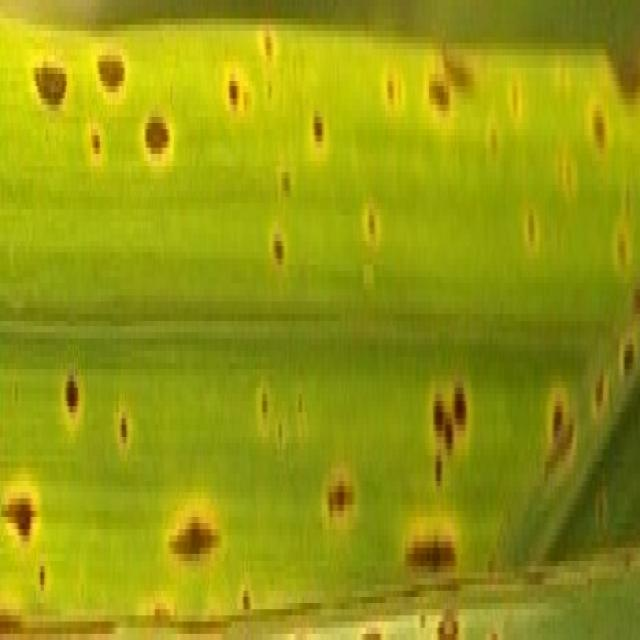Unhealthy: (488, 548, 640, 591), (593, 295, 640, 412), (148, 597, 256, 634), (430, 388, 466, 498), (485, 80, 524, 166), (428, 49, 474, 117), (254, 375, 307, 431), (0, 609, 110, 634), (174, 511, 218, 560), (610, 37, 640, 98), (413, 535, 460, 572), (34, 62, 66, 105), (589, 105, 614, 160), (141, 117, 171, 160), (5, 498, 33, 542), (548, 400, 573, 449), (326, 474, 354, 517), (222, 74, 249, 117), (615, 222, 636, 277), (59, 369, 82, 418), (97, 55, 126, 92), (362, 197, 380, 246), (384, 68, 403, 111), (270, 228, 289, 271), (84, 117, 106, 154), (259, 31, 280, 68), (308, 111, 329, 148), (112, 412, 133, 449), (526, 203, 543, 246), (437, 615, 459, 640), (282, 168, 292, 202)
